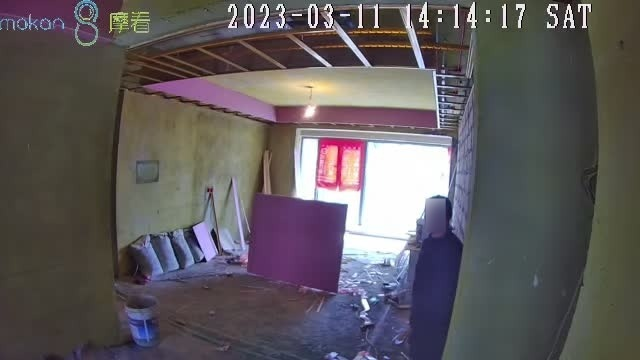people: (409, 195, 464, 360)
window: (299, 136, 451, 243)
